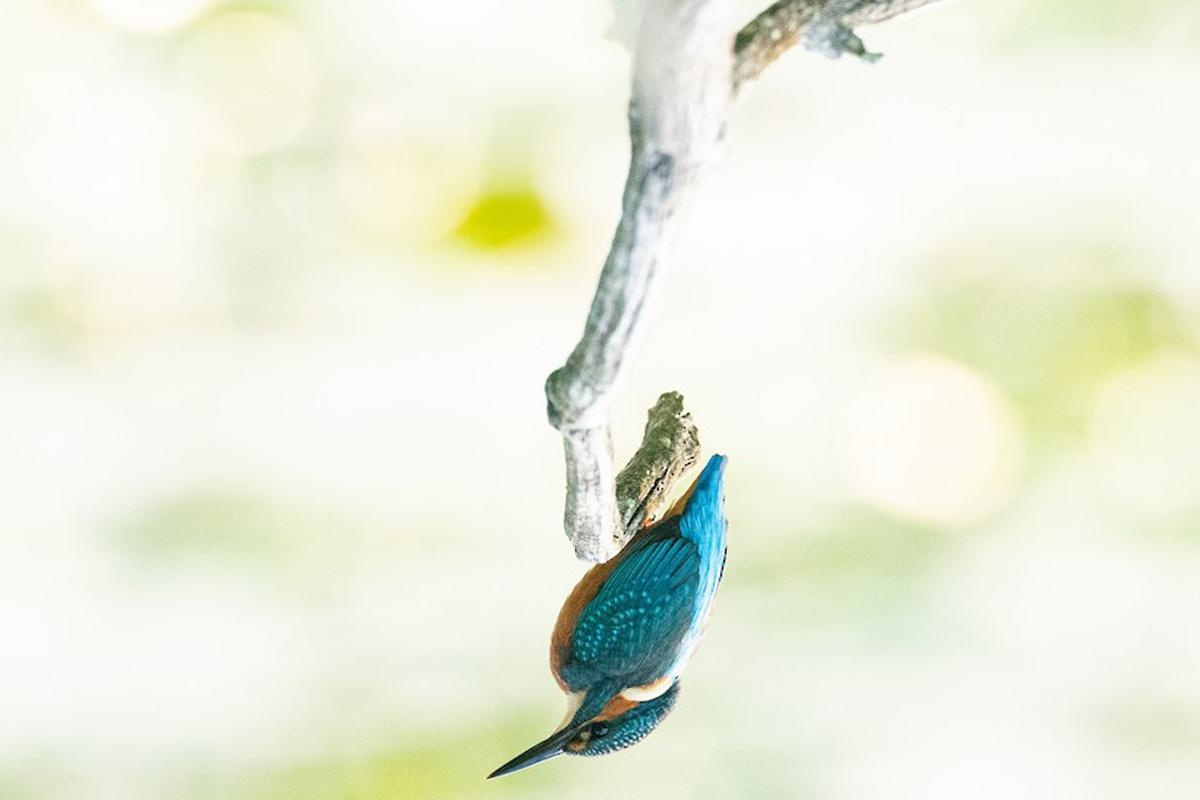kingfisher: (488, 443, 744, 794)
